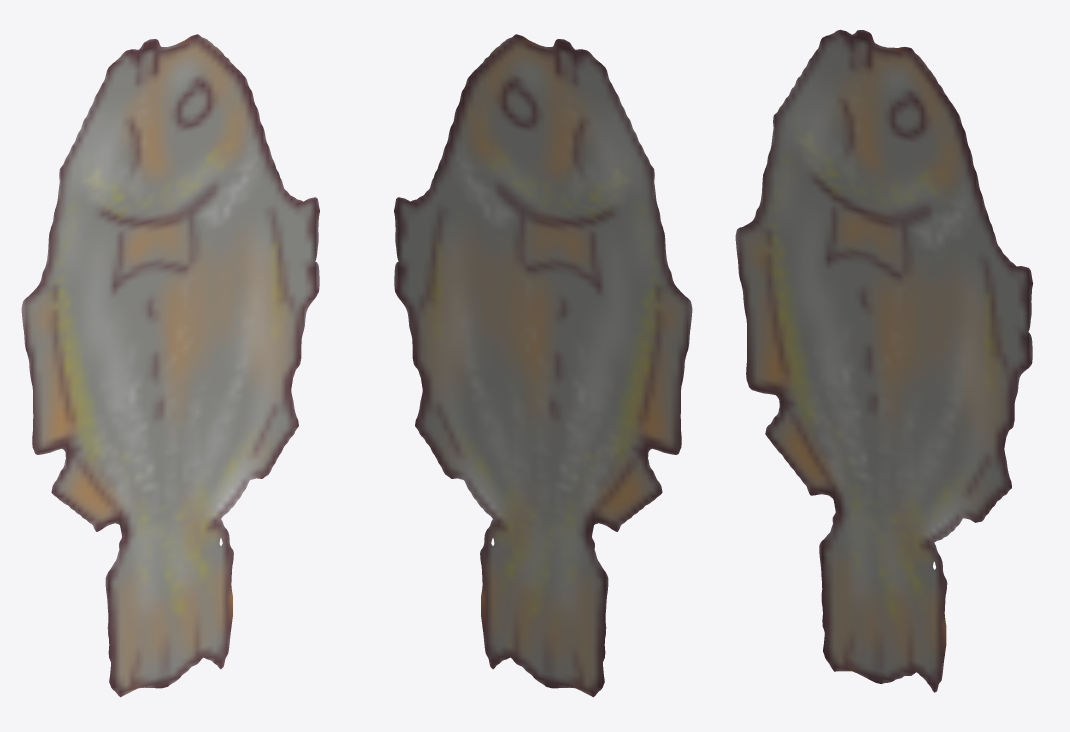
Rendered from giftgoods063.fbx.
The picture shows the model from 3 angles, left to right: view 1: azimuth 30°, elevation 25°; view 2: azimuth 150°, elevation 25°; view 3: azimuth 330°, elevation 25°; orthographic projection.
Parts seen in each view (by area): view 1: giftgoods063; view 2: giftgoods063; view 3: giftgoods063.
Boxes of the visible parts, bbox=[...] form: giftgoods063: bbox=[21, 34, 319, 697]; giftgoods063: bbox=[394, 34, 692, 697]; giftgoods063: bbox=[735, 29, 1032, 692].
Size of the model in its own units: 0.4184 by 0.8253 by 0.
